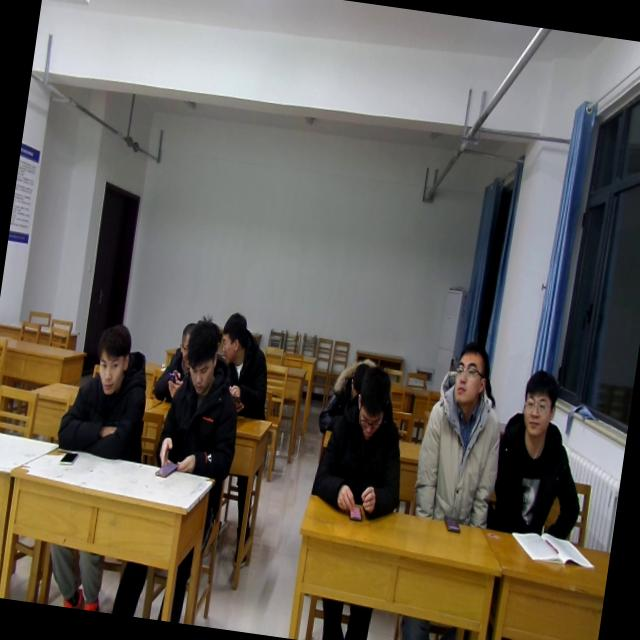bow: (316, 350, 376, 440)
down: (176, 314, 224, 404), (348, 364, 394, 443), (344, 358, 374, 406)
lookup: (444, 337, 498, 417), (514, 363, 562, 441), (90, 319, 135, 399)
sit: (483, 362, 599, 541), (410, 336, 515, 528), (310, 361, 420, 523), (150, 317, 253, 483), (53, 318, 159, 466), (210, 309, 280, 423), (152, 316, 202, 406)
